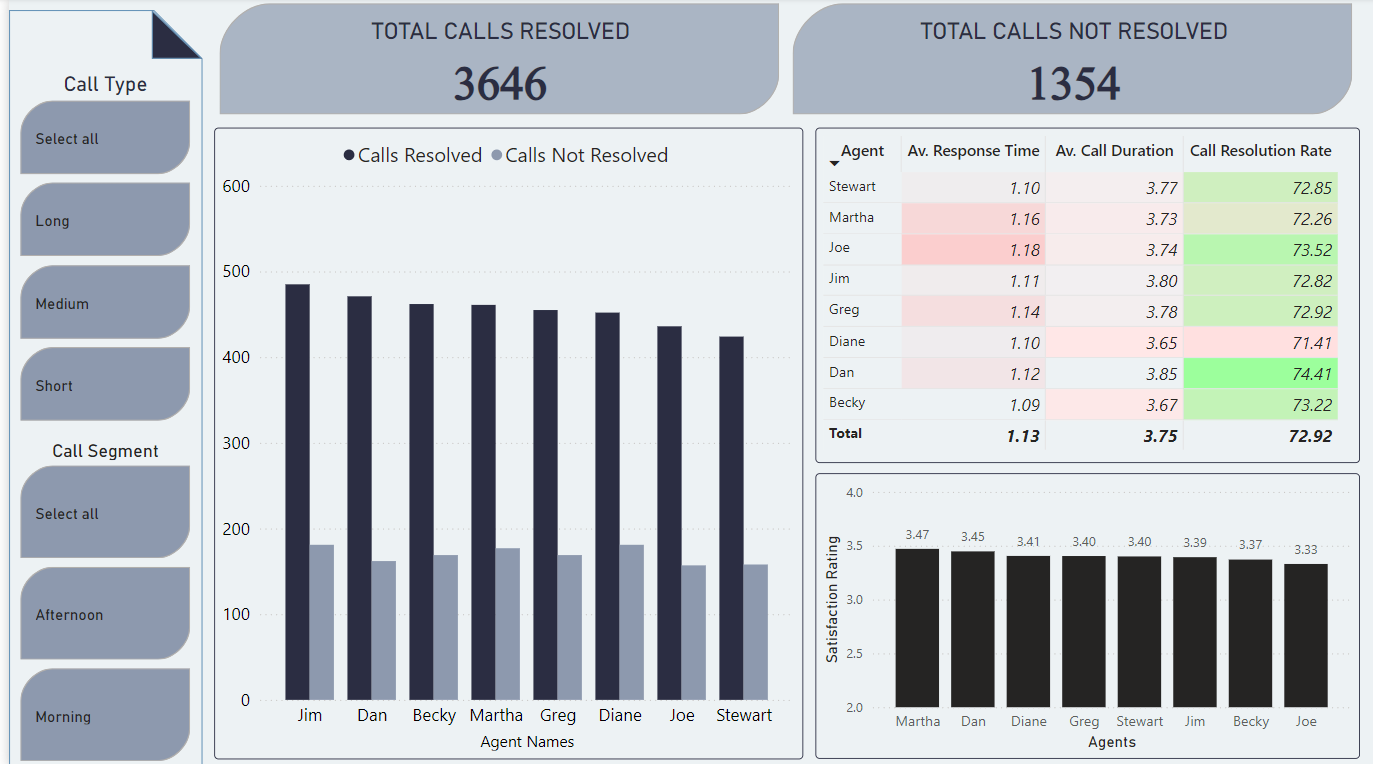

What the dashboard file says about the page in this screenshot:
{"tool":"powerbi","page":{"name":"Agent Performance","canvas":[1280,720],"ordinal":1},"visuals":[{"type":"shape","box":[0,11.4,181.3,708.7],"z":0},{"type":"shape","box":[133.9,11.4,47.4,45.7],"z":1000},{"type":"cardVisual","fields":{"Data":["Call Center Data.Calls Resolved","Call Center Data.Calls Not Resolved"]},"box":[192.7,0,1072.9,114.3],"z":2000},{"type":"clusteredColumnChart","fields":{"Category":["Call Center Data.Agent"],"Y":["Call Center Data.Calls Resolved","Call Center Data.Calls Not Resolved"]},"box":[192.5,121.2,551.2,591.2],"z":3000},{"type":"advancedSlicerVisual","fields":{"Values":["Call Center Data.Call Segment"]},"box":[5.7,413.1,169.6,307.3],"z":4000},{"type":"advancedSlicerVisual","fields":{"Values":["Call Center Data.Call Type"]},"box":[5.7,68.3,169.6,335.7],"z":5000},{"type":"pivotTable","fields":{"Rows":["Call Center Data.Agent"],"Values":["Call Center Data.Average Response Time","Avg(Call Center Data.Call Duration)"]},"box":[755,121.2,510,313.8],"z":6000},{"type":"clusteredColumnChart","fields":{"Category":["Call Center Data.Agent"],"Y":["Avg(Call Center Data.Satisfaction rating)"]},"box":[755,445,510,267.5],"z":7000}]}

Visuals, with their boxes in screenshot pixels (x1, y1, x2, y2), scaled from the page's 1280x720 canvas onto the 1373x764 screenshot:
shape: {"x1": 0, "y1": 12, "x2": 194, "y2": 763}
shape: {"x1": 144, "y1": 12, "x2": 194, "y2": 61}
cardVisual - Call Center Data.Calls Resolved x Call Center Data.Calls Not Resolved: {"x1": 207, "y1": 0, "x2": 1358, "y2": 121}
clusteredColumnChart - Call Center Data.Agent x Call Center Data.Calls Resolved: {"x1": 206, "y1": 129, "x2": 798, "y2": 756}
advancedSlicerVisual - Call Center Data.Call Segment: {"x1": 6, "y1": 438, "x2": 188, "y2": 763}
advancedSlicerVisual - Call Center Data.Call Type: {"x1": 6, "y1": 72, "x2": 188, "y2": 429}
pivotTable - Call Center Data.Agent x Call Center Data.Average Response Time: {"x1": 810, "y1": 129, "x2": 1357, "y2": 462}
clusteredColumnChart - Call Center Data.Agent x Avg(Call Center Data.Satisfaction rating): {"x1": 810, "y1": 472, "x2": 1357, "y2": 756}
